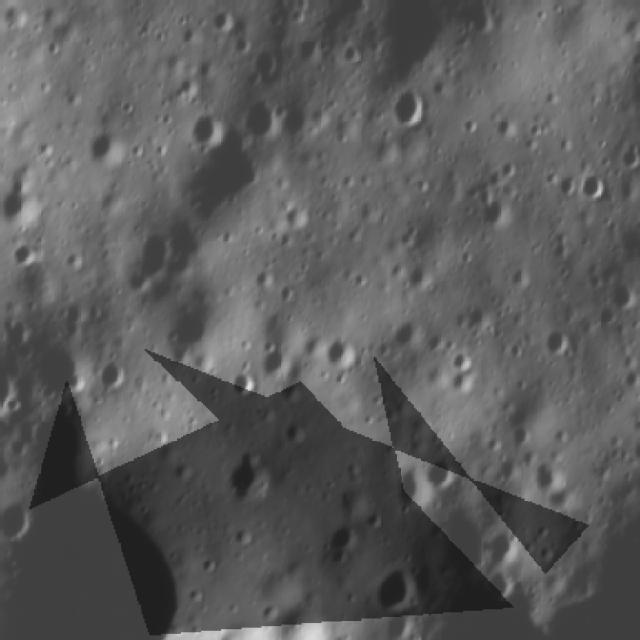crater: (370, 2, 455, 100), (118, 224, 176, 301), (34, 336, 86, 398), (220, 448, 277, 504), (368, 562, 423, 616), (390, 462, 432, 513), (242, 93, 282, 141), (2, 490, 35, 544), (85, 128, 126, 170), (188, 105, 226, 148), (390, 88, 427, 128), (322, 332, 360, 370), (422, 452, 458, 490), (474, 191, 512, 227), (538, 320, 574, 358), (531, 460, 567, 497), (97, 352, 131, 391), (319, 522, 358, 556), (257, 342, 292, 378), (401, 260, 437, 294), (576, 168, 609, 202), (604, 278, 638, 311), (391, 314, 423, 349), (484, 568, 518, 600), (382, 606, 416, 637), (228, 368, 260, 398), (294, 34, 324, 64), (492, 112, 519, 143), (252, 47, 278, 79), (505, 423, 533, 452), (449, 366, 477, 394), (507, 263, 533, 292), (285, 203, 310, 232), (253, 263, 275, 294), (447, 348, 475, 372), (282, 416, 308, 441), (339, 38, 363, 65), (14, 237, 37, 263), (309, 102, 331, 129), (44, 36, 61, 58), (462, 115, 478, 136)
